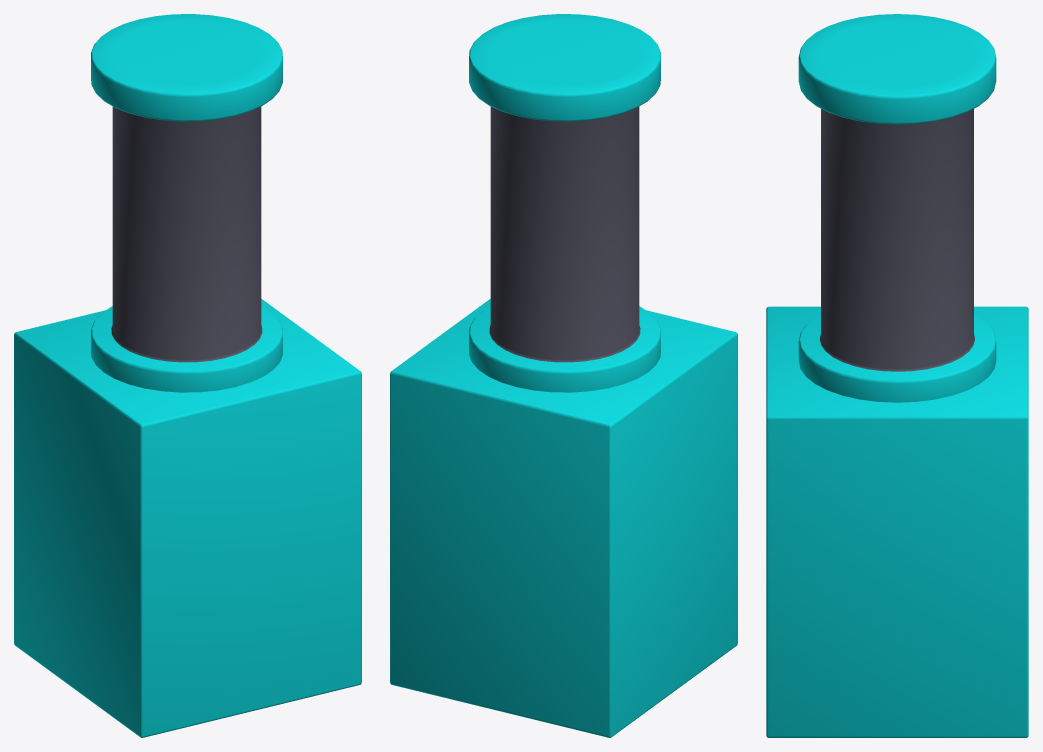
Rendered from Mixer.fbx.
The picture shows the model from 3 angles, left to right: view 1: azimuth 30°, elevation 25°; view 2: azimuth 150°, elevation 25°; view 3: azimuth 270°, elevation 25°; orthographic projection. The views are drawn at different scales.
Parts seen in each view (by area): view 1: Mixer; view 2: Mixer; view 3: Mixer.
Part boxes in pixels (x1,y1,x2,y2): Mixer: (14, 14, 361, 737); Mixer: (390, 14, 737, 737); Mixer: (766, 14, 1028, 737).
Bounding box in the file's own units: 95.28 × 252 × 95.28.
